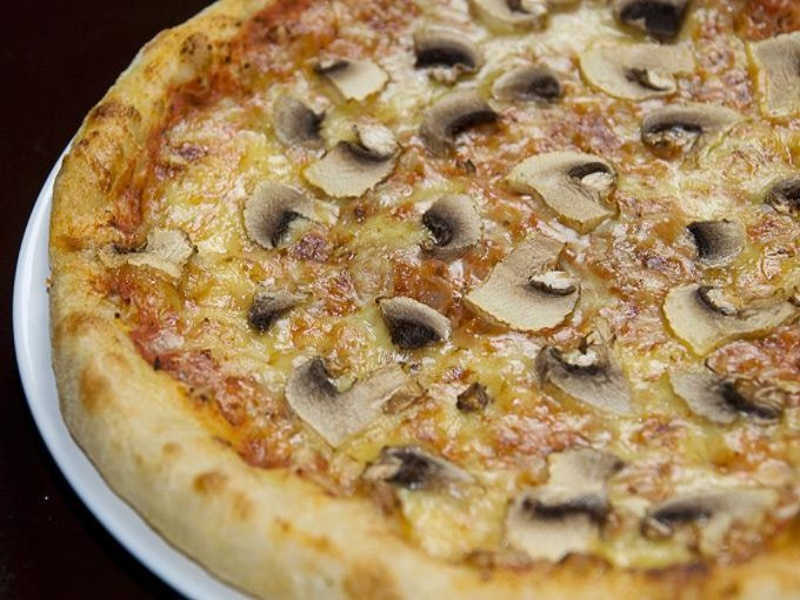champignon: (279, 358, 429, 451), (464, 235, 590, 341), (502, 145, 621, 239), (658, 275, 800, 352), (239, 178, 347, 261)
